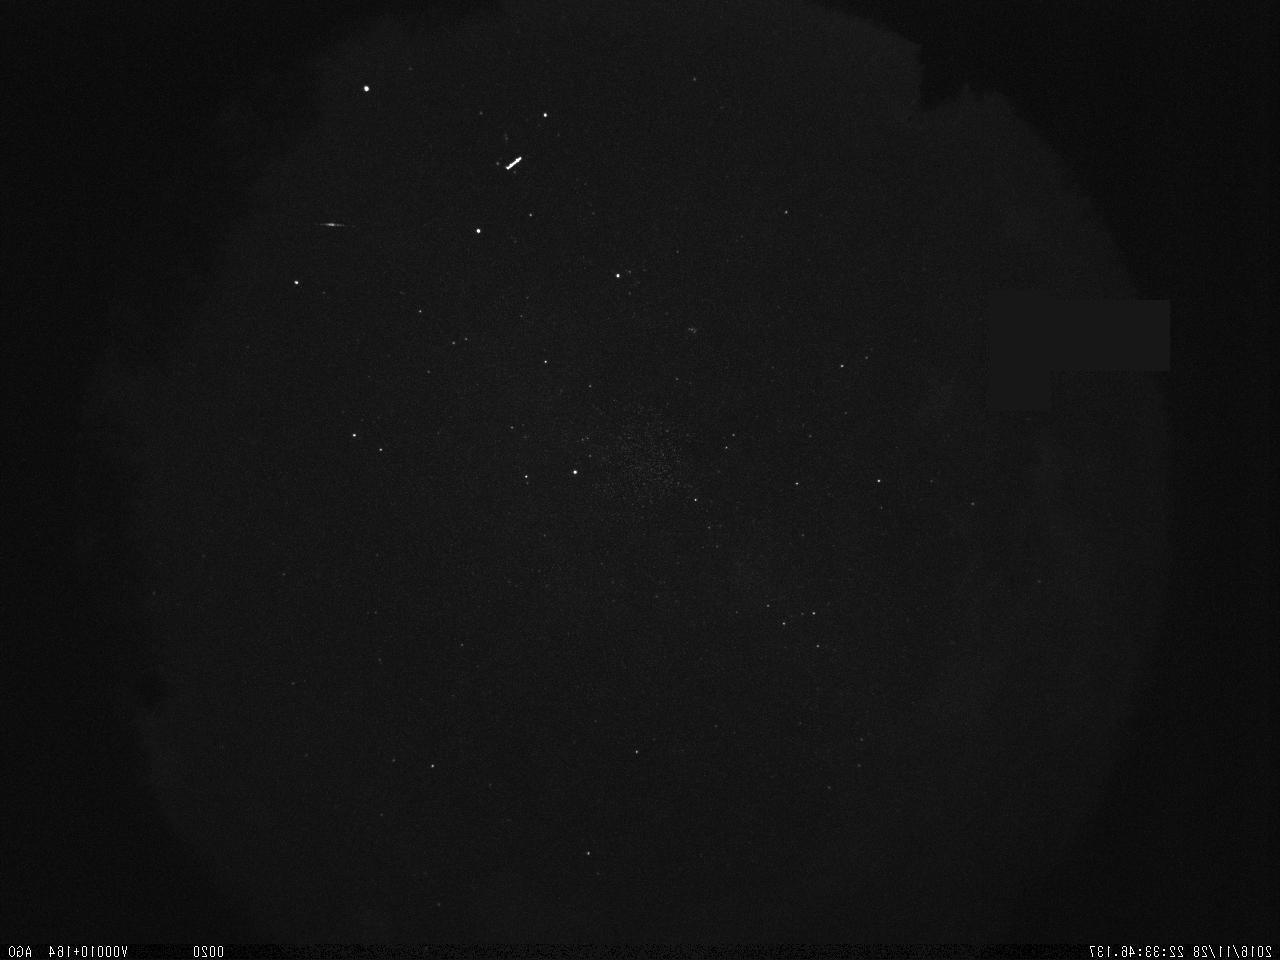meteor: (301, 214, 366, 236)
satelite: (502, 150, 529, 175)
